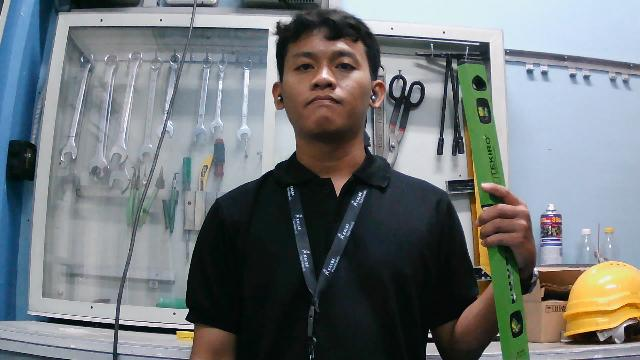water_pass: (452, 59, 532, 360), (451, 59, 489, 145)
